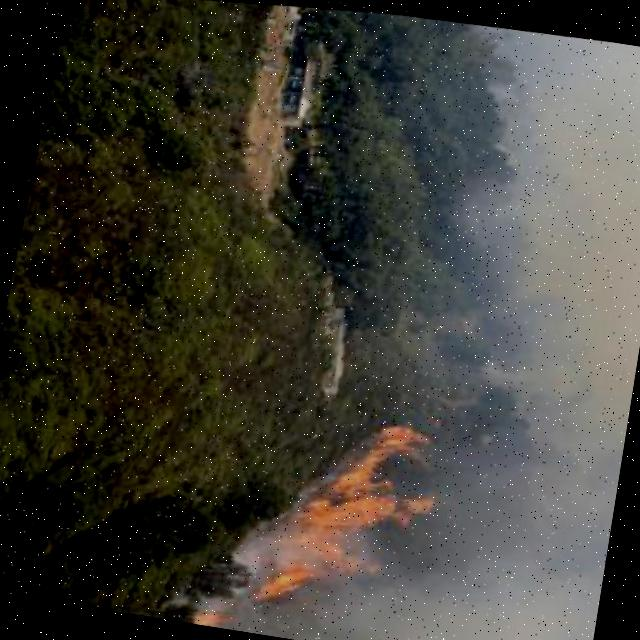fire: (223, 398, 460, 628), (412, 411, 625, 640), (178, 600, 253, 633)
